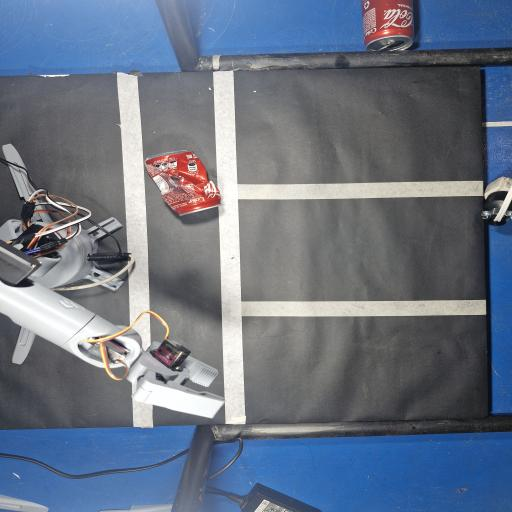lata_defectuoso: (145, 151, 221, 216)
